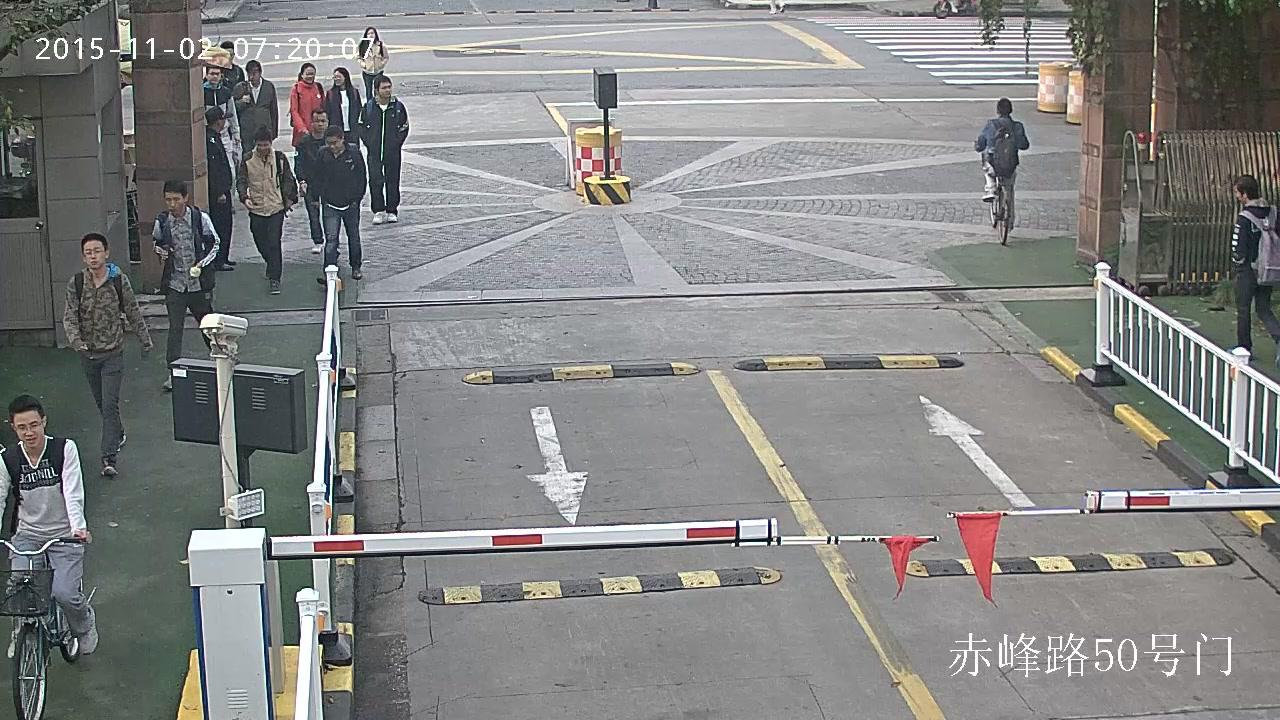face: (14, 411, 42, 447), (83, 239, 104, 268), (165, 191, 184, 214), (313, 111, 327, 132), (254, 139, 270, 156), (326, 135, 341, 153), (378, 79, 391, 98), (302, 66, 315, 83), (207, 68, 220, 83), (247, 68, 259, 84), (332, 70, 343, 85), (1235, 182, 1242, 199), (367, 28, 375, 41), (225, 48, 233, 61), (219, 118, 225, 128)
